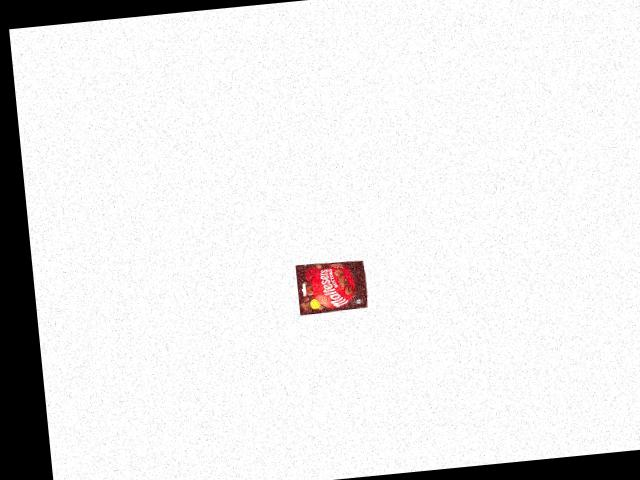chocolate: (294, 257, 370, 315)
